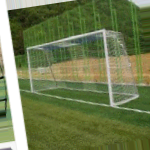goals: (26, 27, 140, 107)
